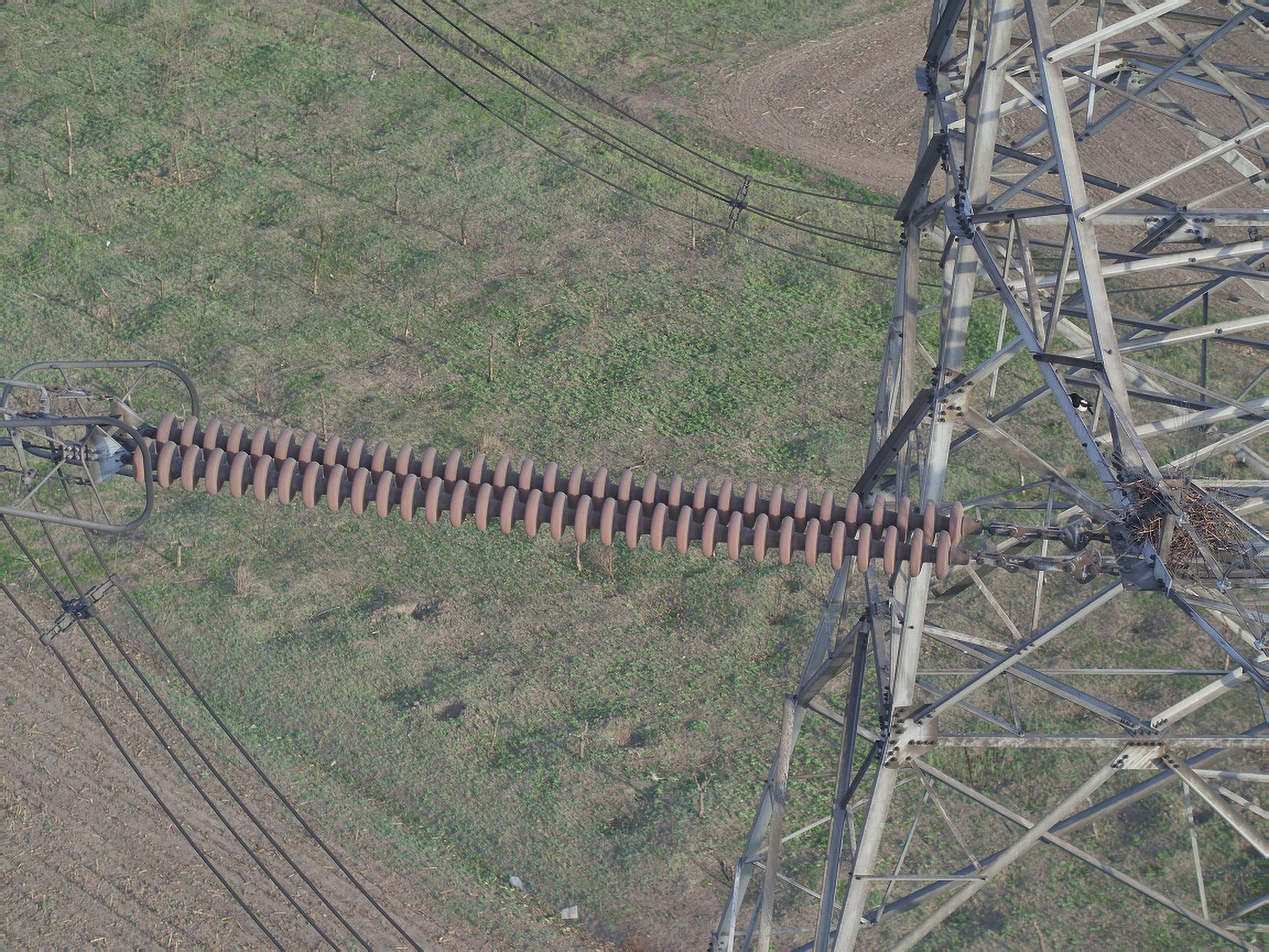insulator: (126, 407, 969, 584)
